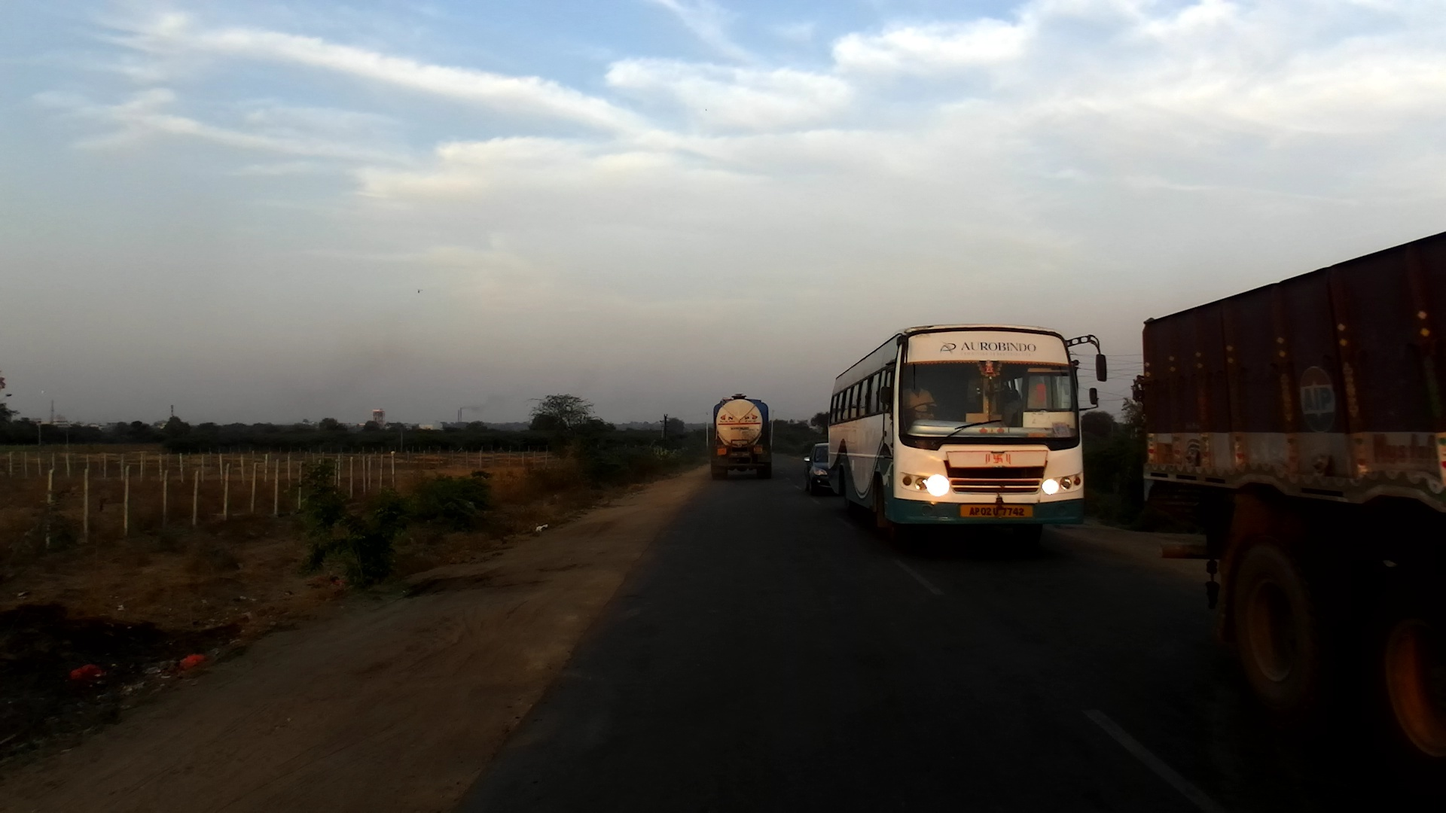bus: (825, 324, 1110, 562)
car: (802, 440, 837, 494)
truck: (1139, 233, 1446, 781), (712, 393, 773, 485)
